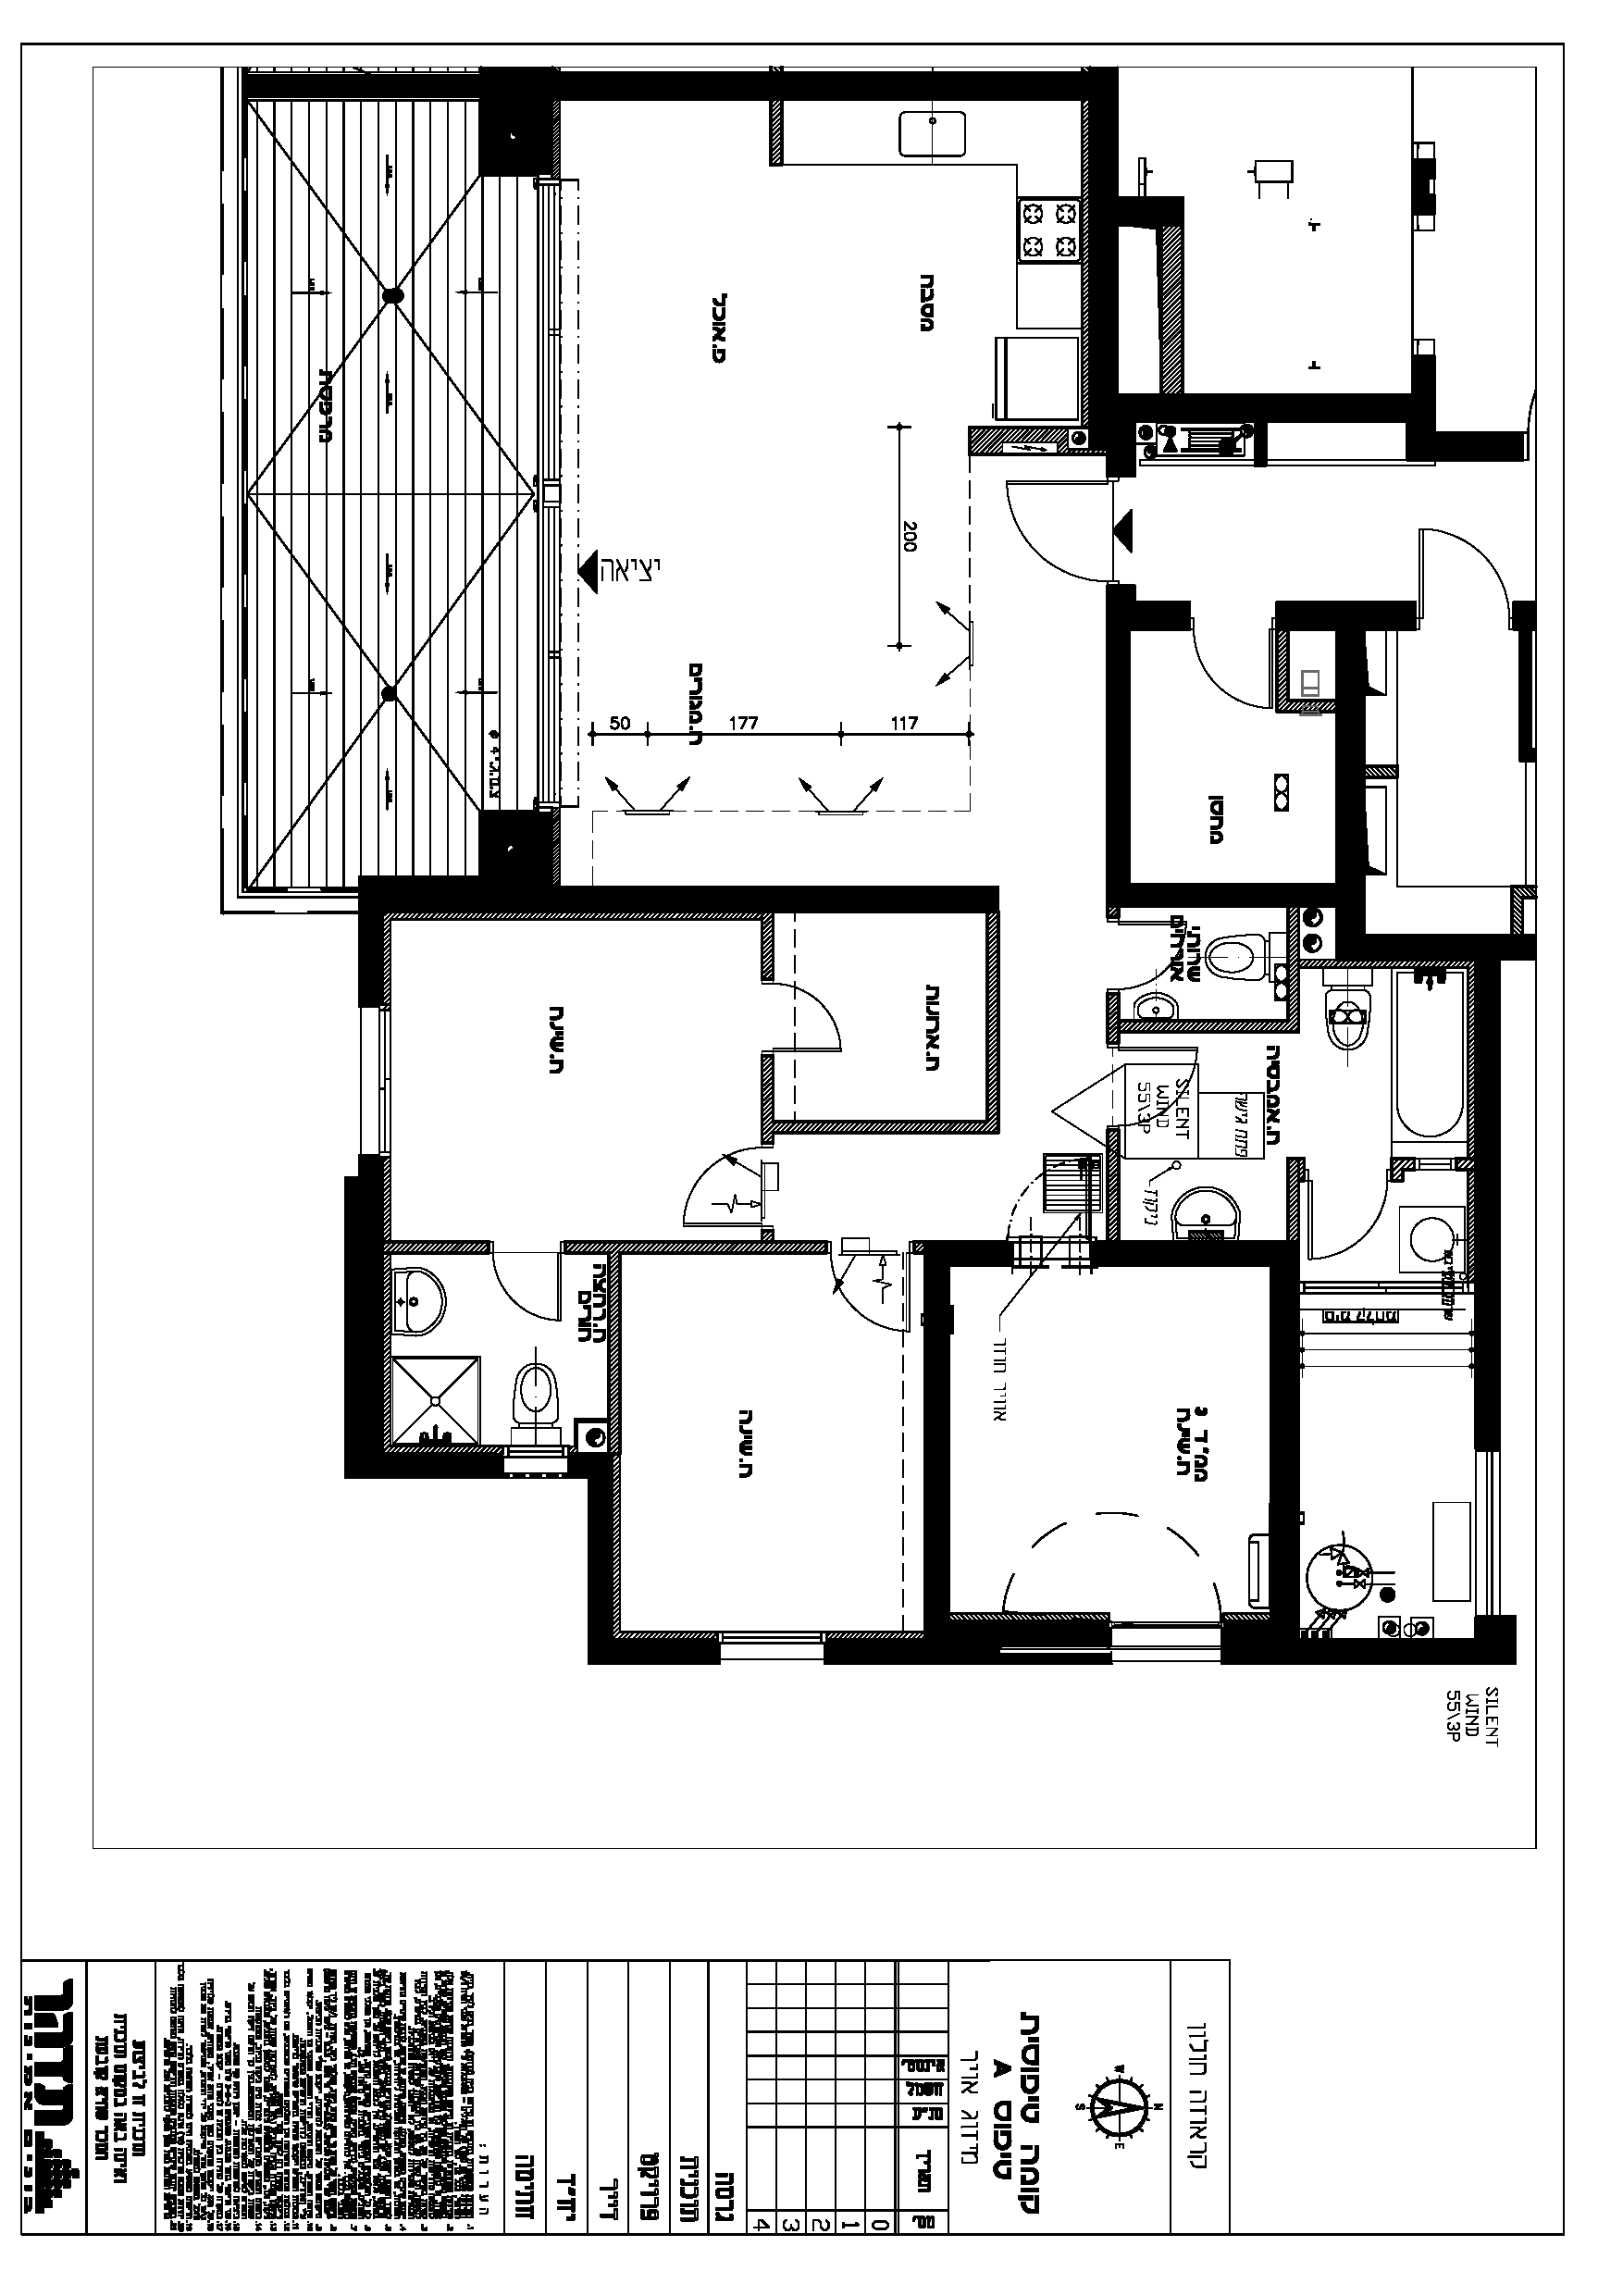door: (1003, 476, 1114, 592), (1412, 520, 1511, 615), (1186, 627, 1280, 717), (827, 1254, 913, 1346), (1303, 1180, 1389, 1272), (680, 1145, 764, 1237), (775, 978, 850, 1058), (487, 1254, 564, 1328)
room: (926, 1238, 1302, 1667), (358, 887, 775, 1251), (608, 1238, 952, 1665), (1107, 599, 1363, 905), (344, 1238, 622, 1481)
wall: (246, 74, 1119, 100), (358, 884, 1001, 913), (1270, 1240, 1300, 1662), (1087, 74, 1121, 446), (348, 1180, 388, 1477), (1477, 938, 1498, 1451), (924, 1242, 949, 1664), (924, 1616, 1108, 1660), (1105, 601, 1131, 903)
window: (357, 1008, 393, 1154), (1112, 1623, 1221, 1665), (717, 1628, 826, 1669), (1475, 1453, 1502, 1613)
